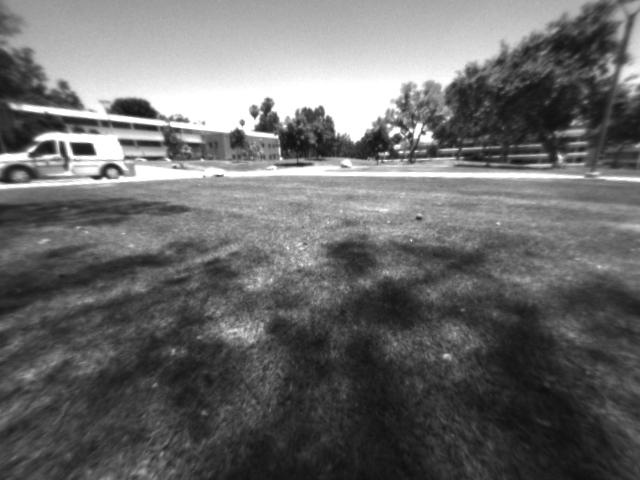dogtoy: (405, 204, 436, 228)
